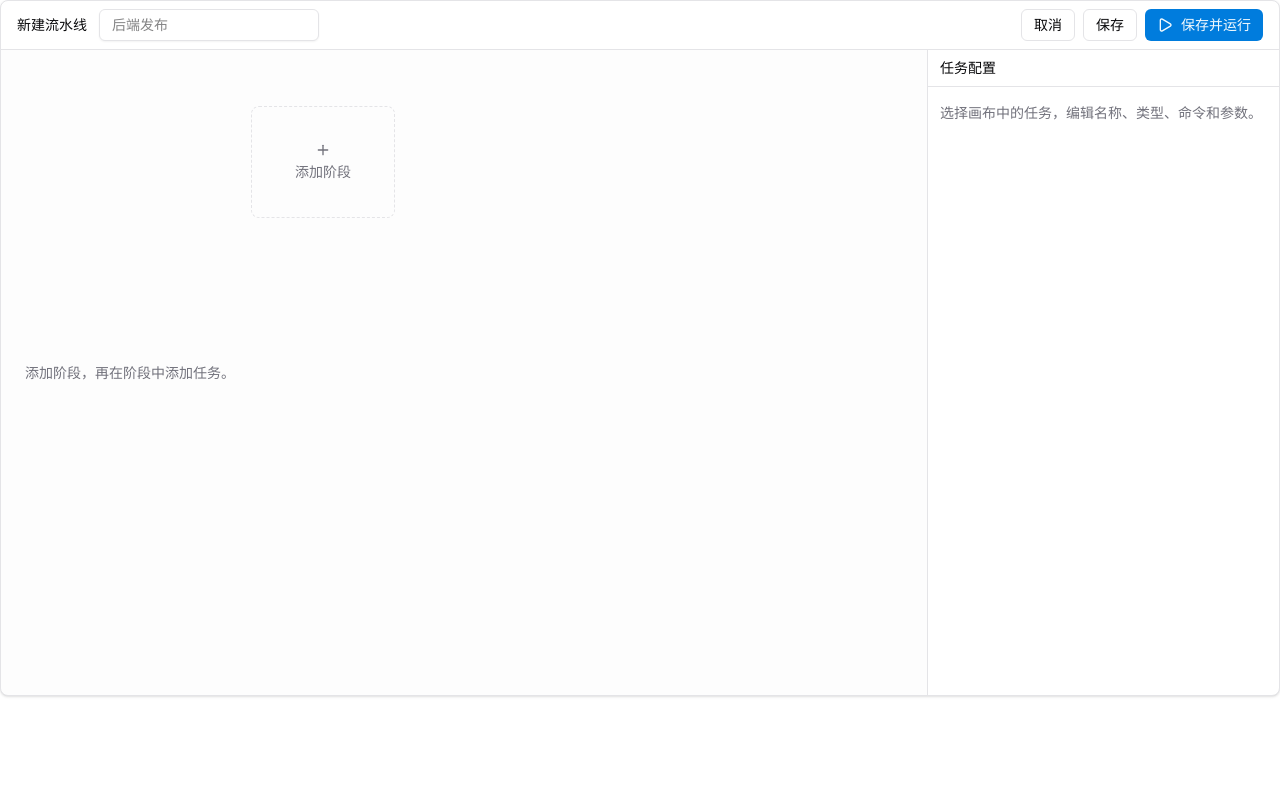
Test: PipelineEditorPage › PIPE-142: asks before discarding unsaved changes
This screenshot has width=1280, height=800.
Click the button "添加阶段" at (323, 162), box [251, 106, 395, 218]
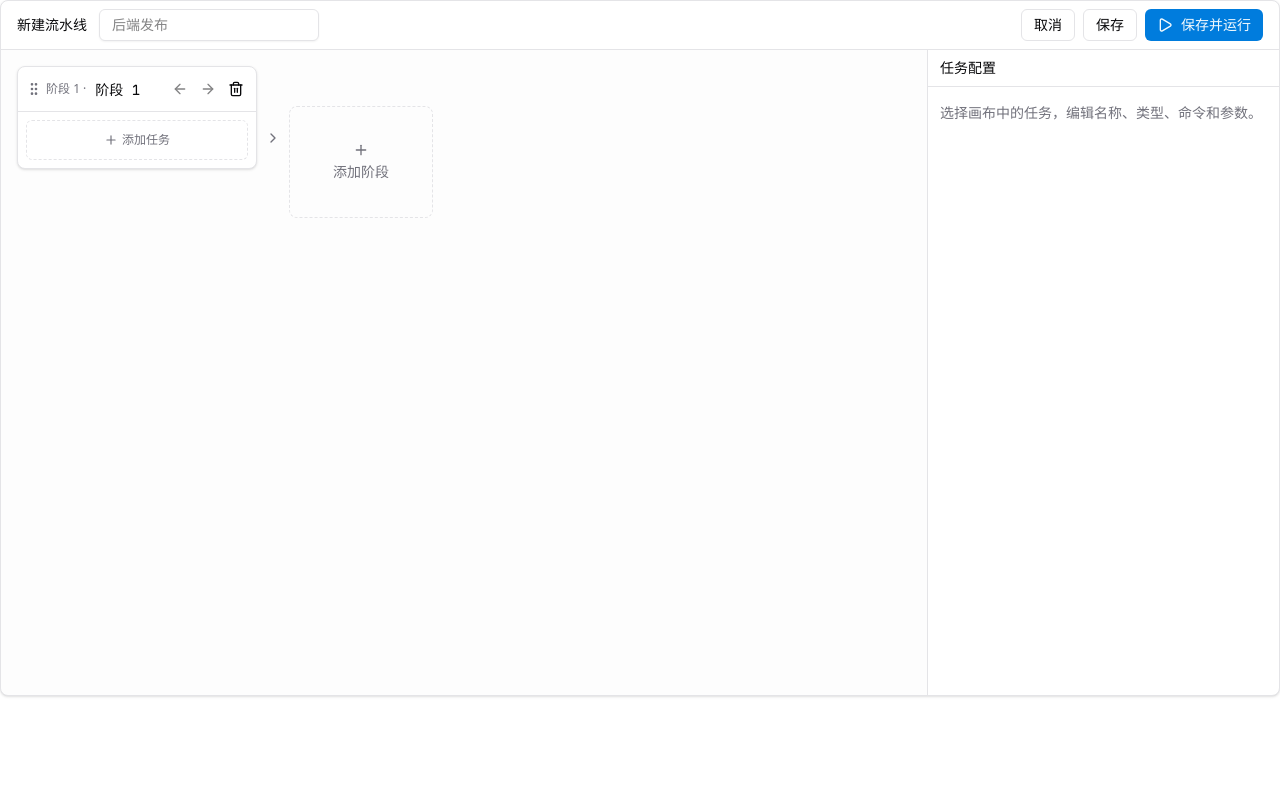
Click the button "取消" at (1048, 25), box [1021, 9, 1075, 41]
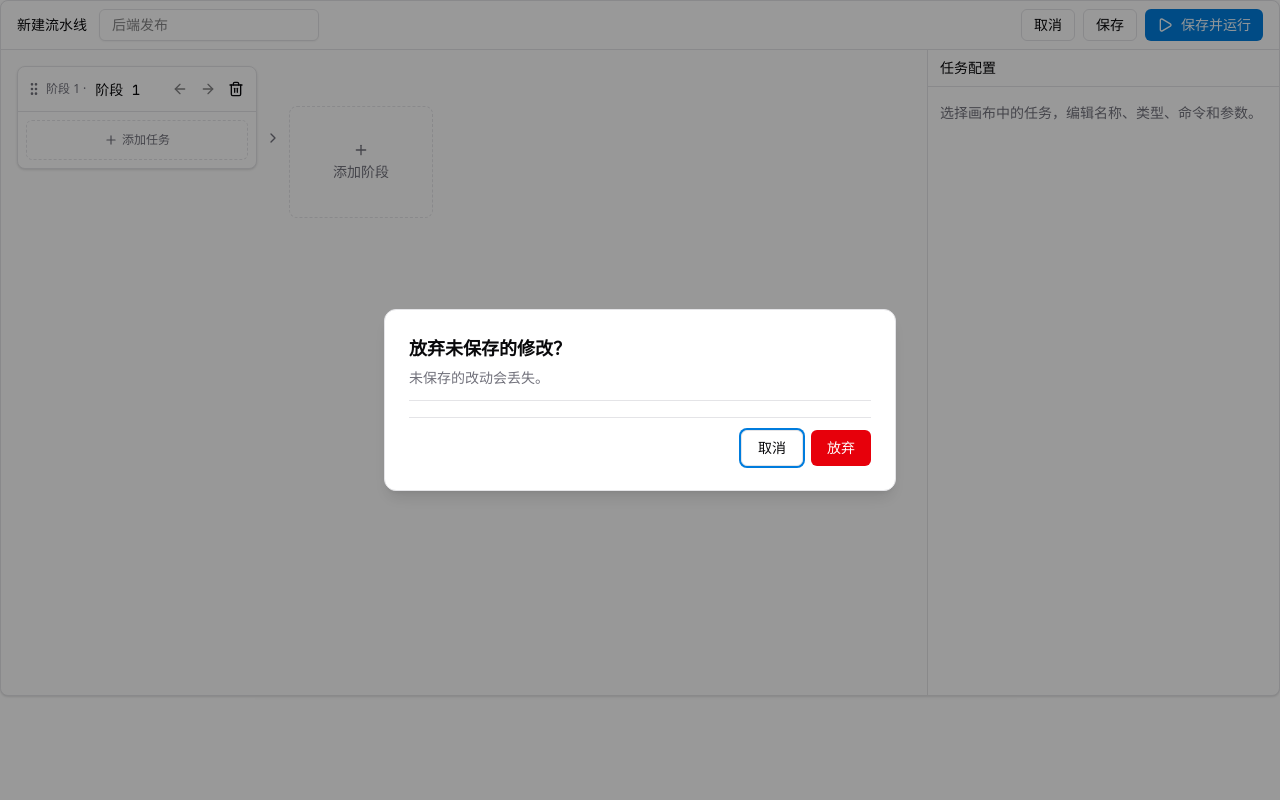
Now the dialog shows "放弃未保存的修改？", box [409, 336, 571, 360]
